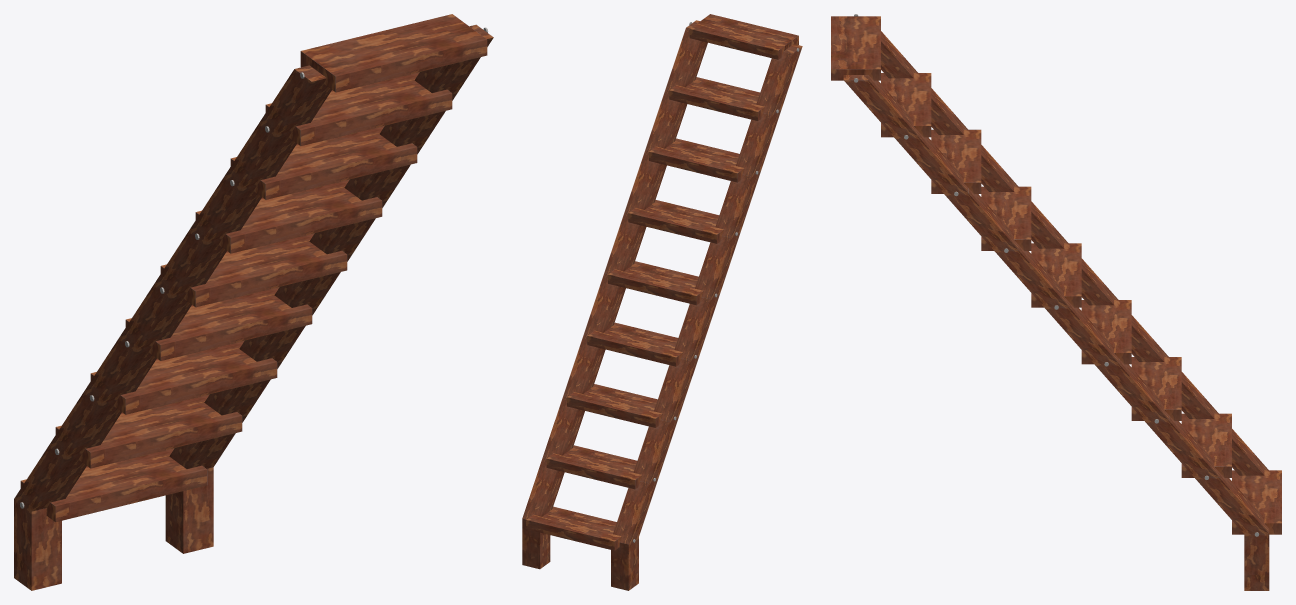
Rendered from Ladder.fbx.
The picture shows the model from 3 angles, left to right: view 1: azimuth 30°, elevation 25°; view 2: azimuth 150°, elevation 25°; view 3: azimuth 270°, elevation 25°; orthographic projection. The views are drawn at different scales.
Parts seen in each view (by area): view 1: Ladder; view 2: Ladder; view 3: Ladder.
Part boxes in pixels (x1,y1,x2,y2): Ladder: (14,14,493,590); Ladder: (522,14,802,590); Ladder: (831,14,1281,590).
Bounding box in the file's own units: 122 × 455 × 360.
